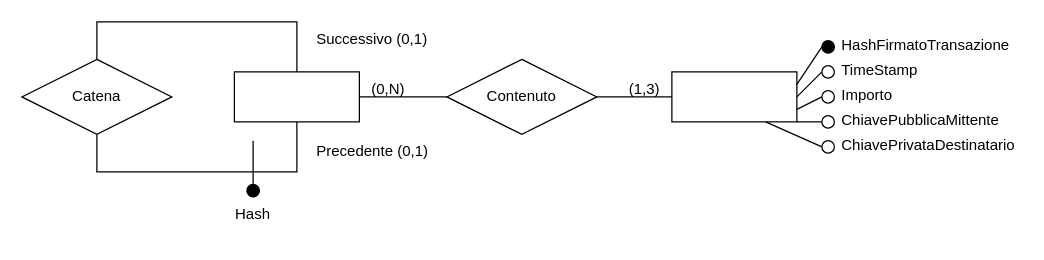
Some shapes in this 1044 by 260 pixel diagram are drawn without their labels. The centre of each missing label's shape, as x and y in pixels:
"Blocco" goes at pixel 296 96.
"Transazioni" goes at pixel 734 96.
